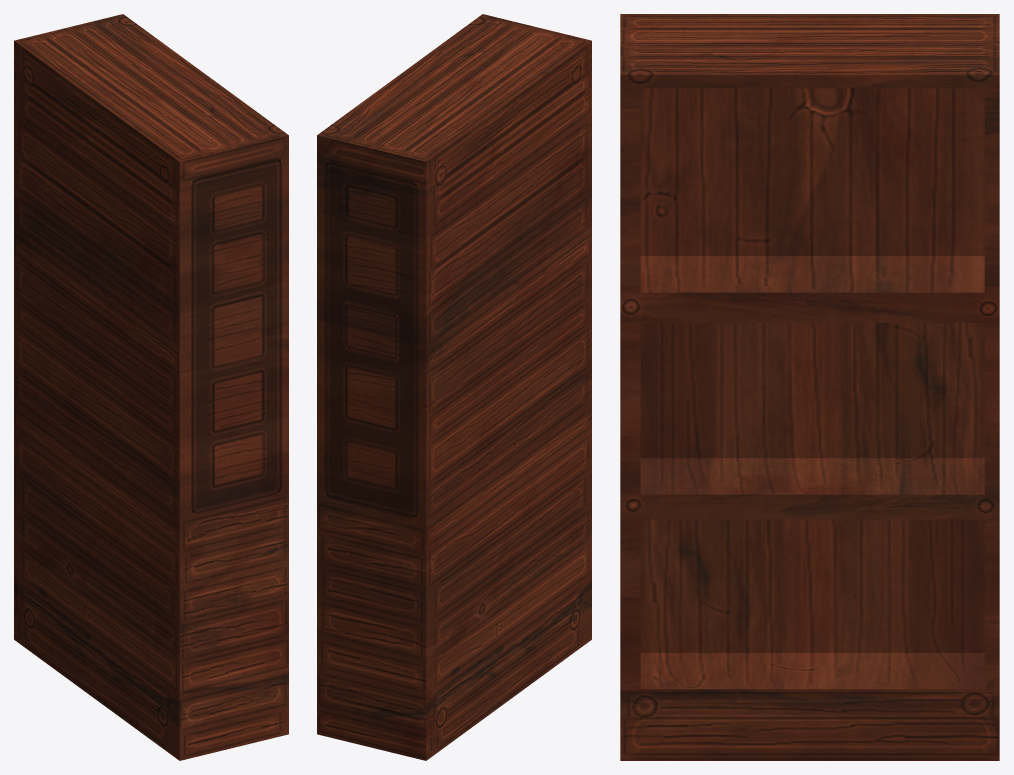
The model's file is furniture_5.fbx.
The picture shows the model from 3 angles, left to right: view 1: azimuth 30°, elevation 25°; view 2: azimuth 150°, elevation 25°; view 3: azimuth 270°, elevation 25°; orthographic projection. The views are drawn at different scales.
Parts seen in each view (by area): view 1: bookshelf_mesh; view 2: bookshelf_mesh; view 3: bookshelf_mesh.
Boxes of the visible parts, <box> form: bookshelf_mesh: <box>14,14,288,760</box>; bookshelf_mesh: <box>317,14,591,760</box>; bookshelf_mesh: <box>620,14,999,760</box>.
Size of the model in its own units: 42.81 by 224 by 113.
